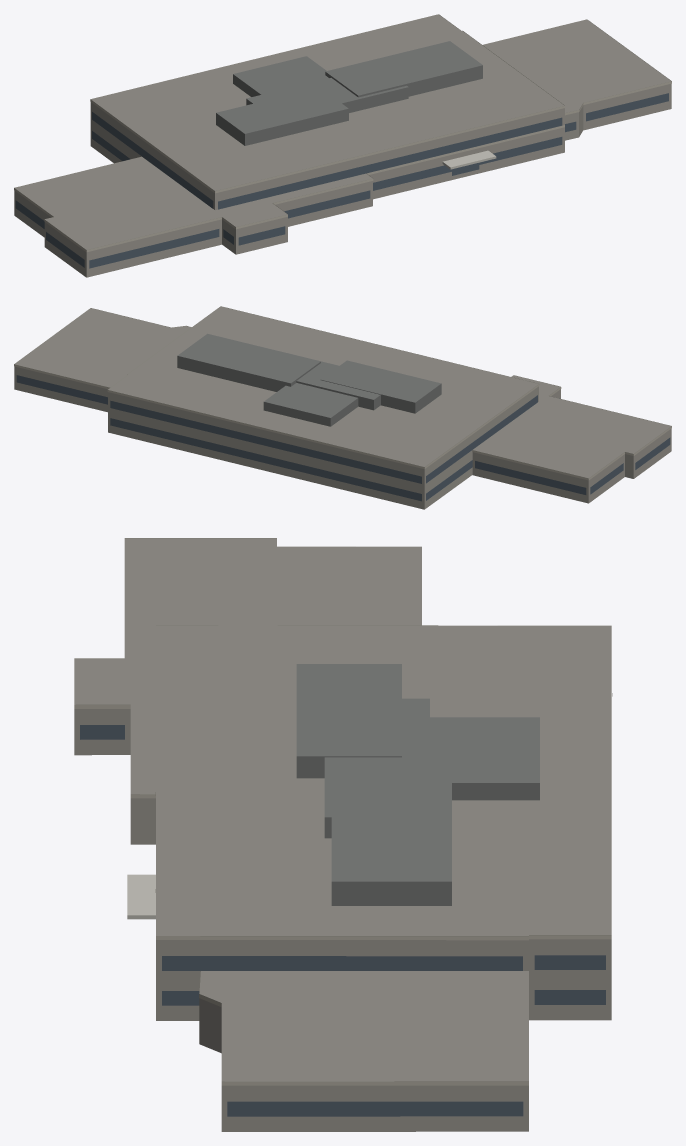
Rendered from employment-security-department.glb.
The picture shows the model from 3 angles, top to bottom: view 1: azimuth 30°, elevation 25°; view 2: azimuth 150°, elevation 25°; view 3: azimuth 270°, elevation 25°; orthographic projection. The views are drawn at different scales.
Visible parts, largest first — view 1: employment_security_department; view 2: employment_security_department; view 3: employment_security_department.
Part boxes in pixels (bbox=[...]): employment_security_department: bbox=[14, 14, 671, 277]; employment_security_department: bbox=[14, 306, 671, 509]; employment_security_department: bbox=[74, 538, 612, 1131].
Size of the model in its own units: 134 by 12.57 by 56.03.
